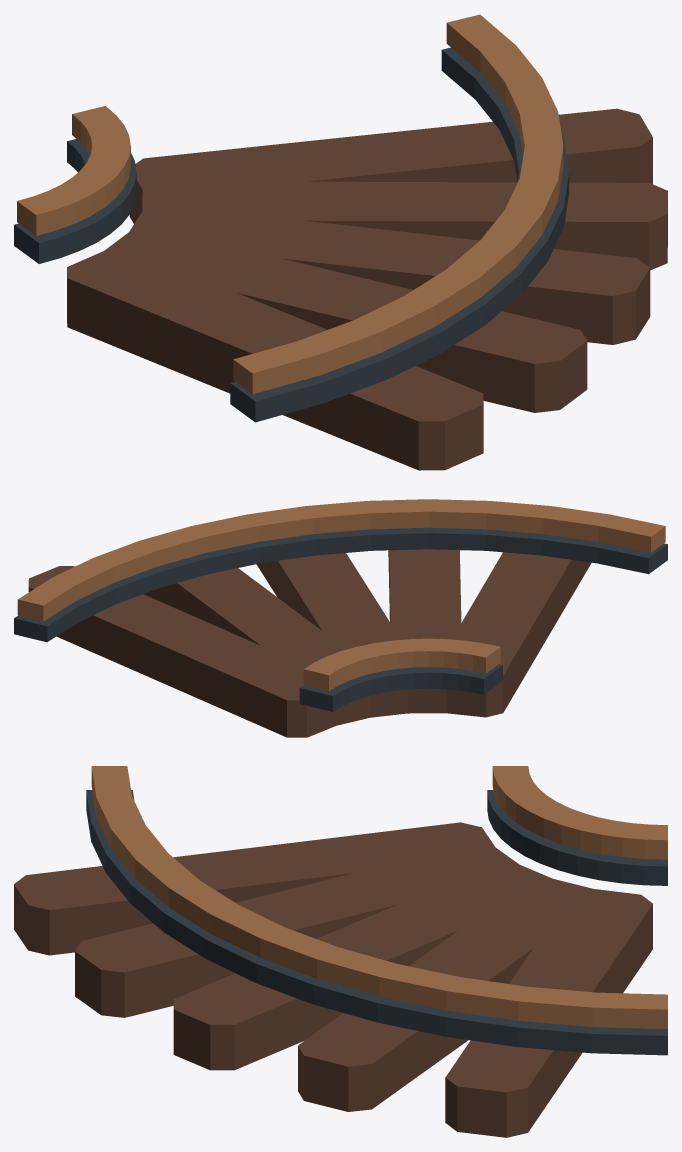
File: rail_turn.glb
3 views of the same model, one above another, from view 1: azimuth 30°, elevation 25°; view 2: azimuth 150°, elevation 25°; view 3: azimuth 270°, elevation 25° (orthographic). The views are drawn at different scales.
Parts seen in each view (by area): view 1: geometry; view 2: geometry; view 3: geometry.
Boxes of the visible parts, bbox=[...] form: geometry: bbox=[14, 14, 667, 470]; geometry: bbox=[14, 499, 667, 737]; geometry: bbox=[14, 766, 667, 1137].
Size of the model in its own units: 0.9133 by 0.147 by 0.9133.
